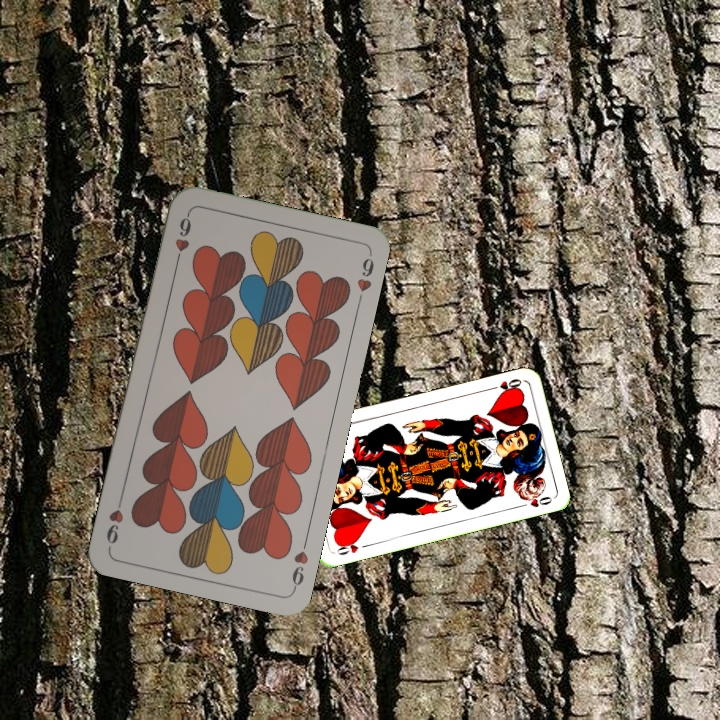H9: (287, 533, 311, 592), (171, 209, 194, 268)
HO: (333, 536, 372, 558), (485, 375, 524, 396)
